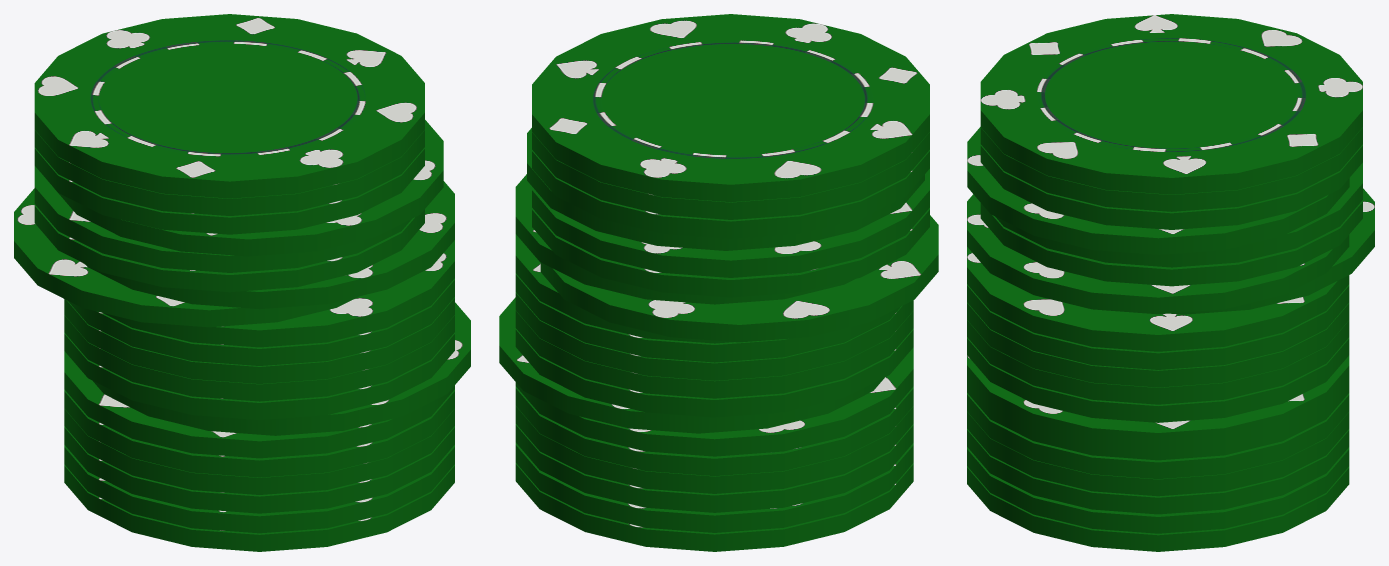
The model's file is pokerChipGreenStack.FBX.
3 renders of one model, left to right at view 1: azimuth 30°, elevation 25°; view 2: azimuth 150°, elevation 25°; view 3: azimuth 270°, elevation 25°, orthographic. The views are drawn at different scales.
Parts seen in each view (by area): view 1: Cylinder020, Cylinder013, Cylinder017, Cylinder006, Cylinder012, Cylinder014, Cylinder002, Cylinder005, Cylinder015, Cylinder003, Cylinder001, Cylinder008 (+8 smaller); view 2: Cylinder020, Cylinder013, Cylinder016, Cylinder006, Cylinder002, Cylinder005, Cylinder015, Cylinder001, Cylinder003, Cylinder008, Cylinder018, Cylinder007 (+8 smaller); view 3: Cylinder020, Cylinder012, Cylinder014, Cylinder007, Cylinder017, Cylinder002, Cylinder005, Cylinder015, Cylinder001, Cylinder011, Cylinder018, Cylinder003 (+8 smaller).
Part boxes in pixels (<box>): Cylinder020: <box>34,14,424,198</box>; Cylinder013: <box>14,188,358,327</box>; Cylinder017: <box>53,120,443,256</box>; Cylinder006: <box>64,351,454,458</box>; Cylinder012: <box>103,240,454,347</box>; Cylinder014: <box>85,181,454,309</box>; Cylinder002: <box>64,445,454,533</box>; Cylinder005: <box>64,389,454,477</box>; Cylinder015: <box>34,204,424,292</box>; Cylinder003: <box>64,426,454,513</box>; Cylinder001: <box>64,464,454,551</box>; Cylinder008: <box>64,332,454,419</box>; Cylinder020: <box>532,14,929,202</box>; Cylinder013: <box>540,215,938,342</box>; Cylinder016: <box>532,169,929,277</box>; Cylinder006: <box>515,347,913,456</box>; Cylinder002: <box>515,442,913,532</box>; Cylinder005: <box>515,386,913,476</box>; Cylinder015: <box>532,208,929,297</box>; Cylinder001: <box>515,463,913,551</box>; Cylinder003: <box>515,424,913,512</box>; Cylinder008: <box>515,328,913,417</box>; Cylinder018: <box>532,150,929,238</box>; Cylinder007: <box>499,297,884,433</box>; Cylinder020: <box>980,14,1362,194</box>; Cylinder012: <box>967,247,1349,351</box>; Cylinder014: <box>967,194,1349,314</box>; Cylinder007: <box>967,355,1349,449</box>; Cylinder017: <box>967,127,1349,254</box>; Cylinder002: <box>967,447,1349,533</box>; Cylinder005: <box>967,393,1349,479</box>; Cylinder015: <box>980,200,1362,286</box>; Cylinder001: <box>967,466,1349,551</box>; Cylinder011: <box>967,284,1349,369</box>; Cylinder018: <box>980,144,1362,229</box>; Cylinder003: <box>967,429,1349,514</box>.
Size of the model in its own units: 4.75 by 4.25 by 4.32.
1 material, 1 textured.
